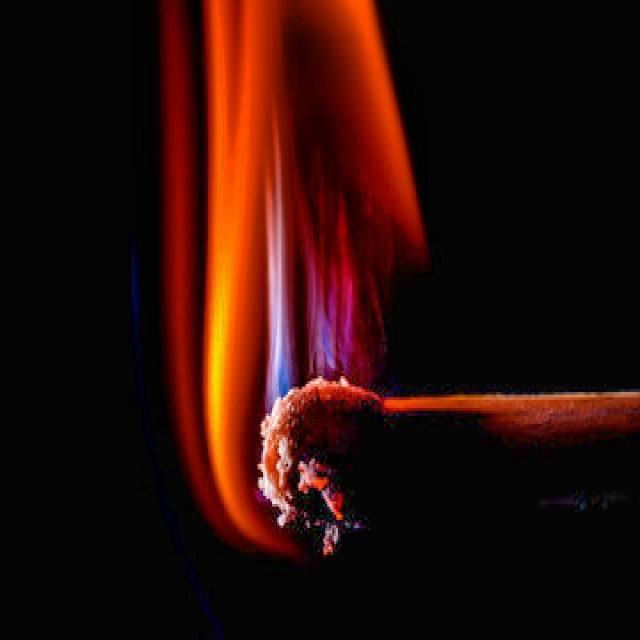Fire: (153, 0, 424, 565)
